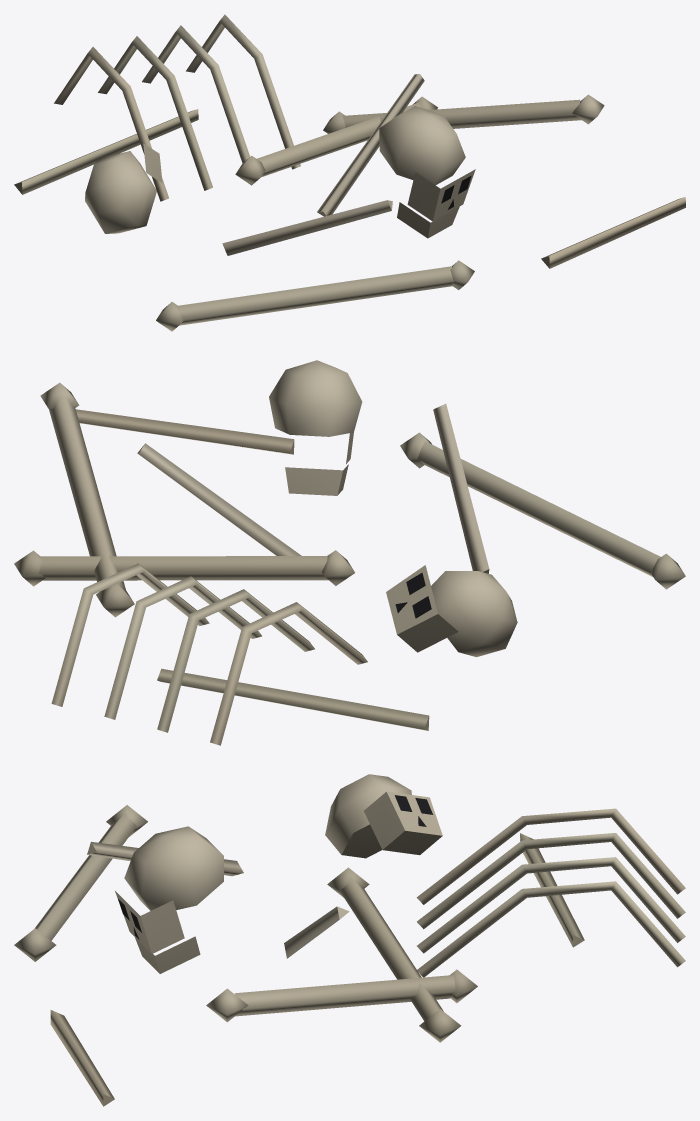
Rendered from bone_pile.glb.
The picture shows the model from 3 angles, top to bottom: view 1: azimuth 30°, elevation 25°; view 2: azimuth 150°, elevation 25°; view 3: azimuth 270°, elevation 25°; orthographic projection. The views are drawn at different scales.
Parts seen in each view (by area): view 1: bone_pile; view 2: bone_pile; view 3: bone_pile.
Part boxes in pixels (<box>): bone_pile: <box>14,14,685,331</box>; bone_pile: <box>14,360,685,745</box>; bone_pile: <box>14,774,685,1106</box>.
Size of the model in its own units: 1.3 by 0.3252 by 1.29.
